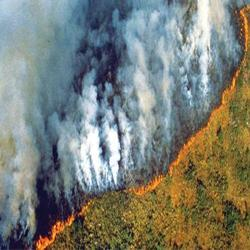fire: (34, 234, 51, 250), (50, 218, 62, 234)
smoke: (69, 103, 126, 170)
